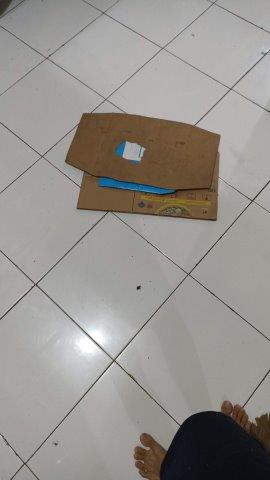kardus: (67, 114, 215, 218)
